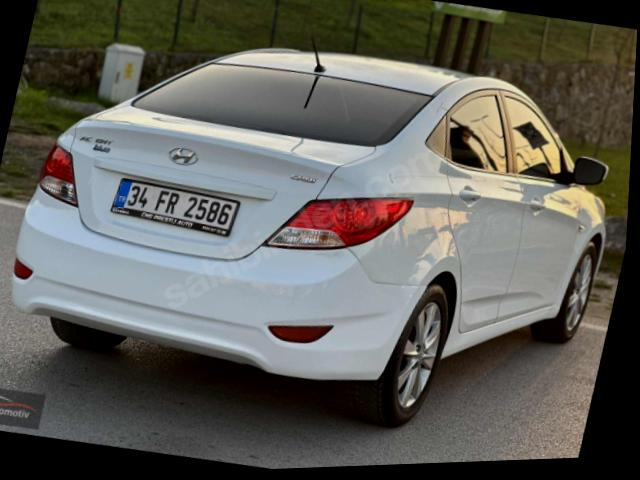plaka: (111, 178, 238, 235)
